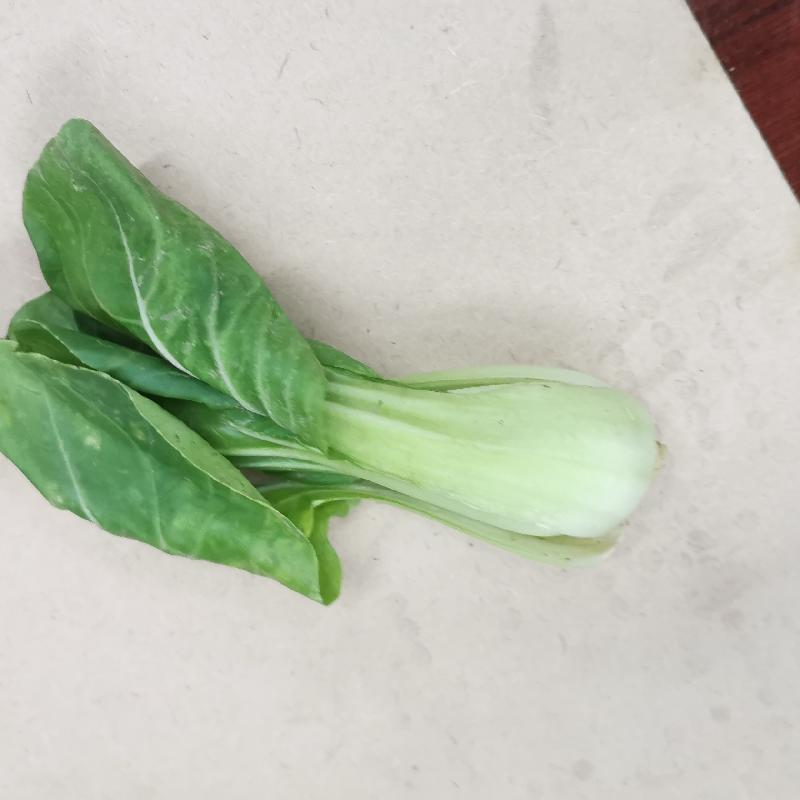green vegatable: (0, 116, 666, 613)
